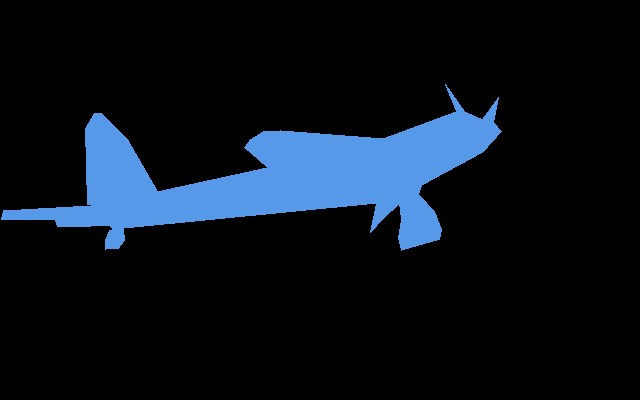Airplane: (1, 84, 501, 251)
